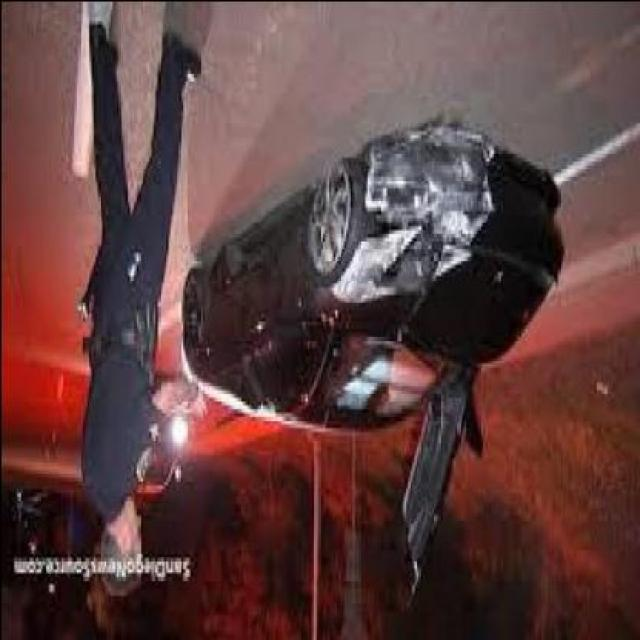damage: (298, 128, 494, 317)
